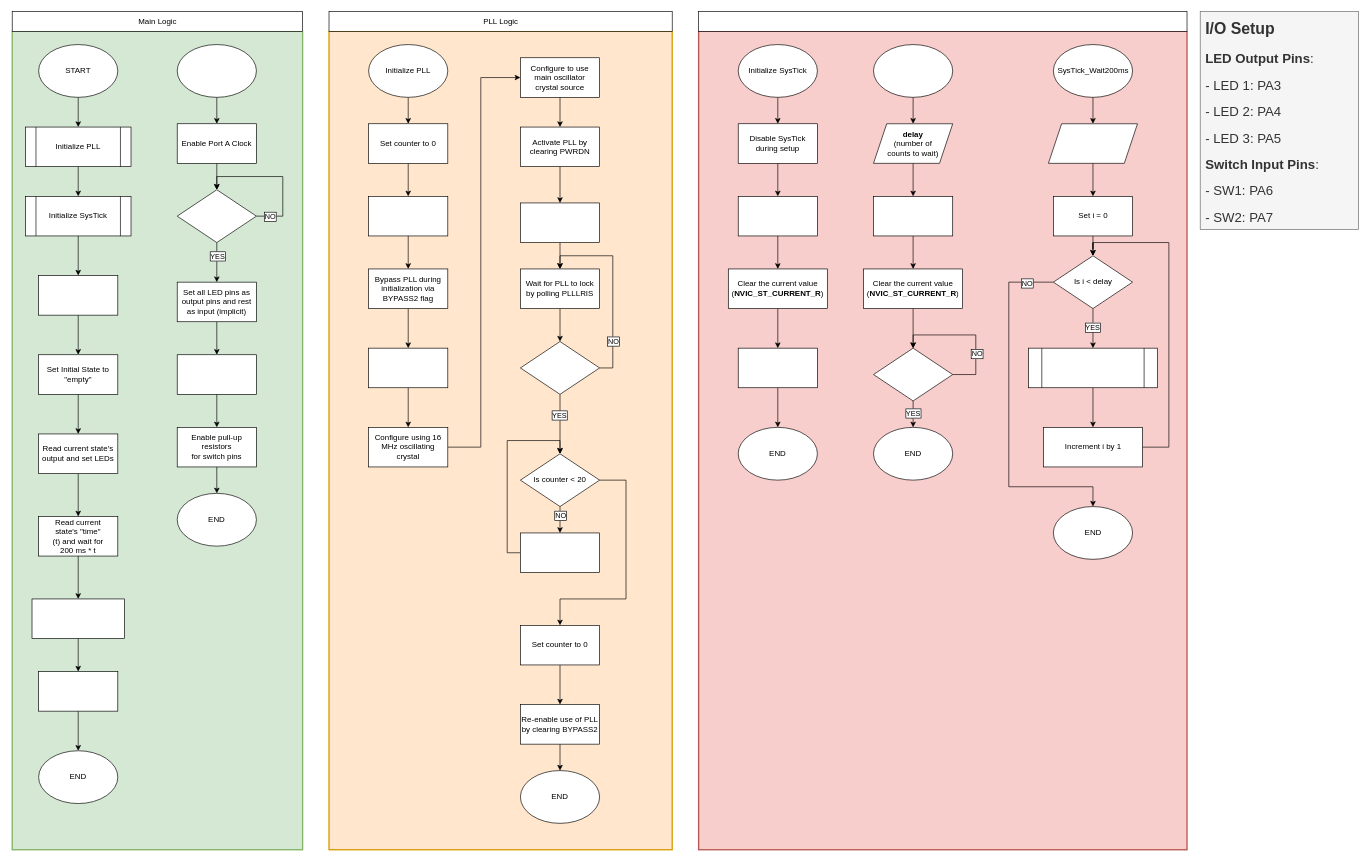
Some shapes in this 1370 by 862 pixel diagram are drawn without their labels. Each missing label, with the centre of its shape:
Clear XTAL field: point 408,367
Configure PLL-based system clock to 50 MHz ( SYSDIV2 = 7): point 560,222
Configure system to use RCC2 for more advanced features: point 408,216
delay (number of times to repeat waiting 200 ms): point 1093,143
Enable digital functionality for LED and swtich pins: point 216,374
Enable SysTick with PLL core clock: point 777,367
Has count flag reached zero?: point 913,374
Increment counter by 1: point 560,552
Initialize Port A Pins: point 216,70
Initialize Port A pins for buttons and LEDs: point 78,295
Is PLL Locked?: point 560,367
Is Port A Clock enabled?: point 216,216
Read current state's "input" and treat that as next state to transition: point 77,618
Set reload to delay - 1: point 913,216
Set reload to maximum reload value: point 777,216
SysTick Logic: point 942,21
SysTick_Wait: point 913,70
SysTick_Wait(10000000) (20 ns*10,000,000=200 ms): point 1092,367
Transition to next state based on "input": point 78,691
